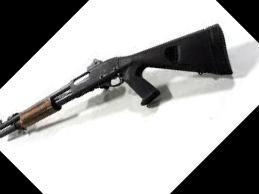larga: (0, 23, 233, 139)
